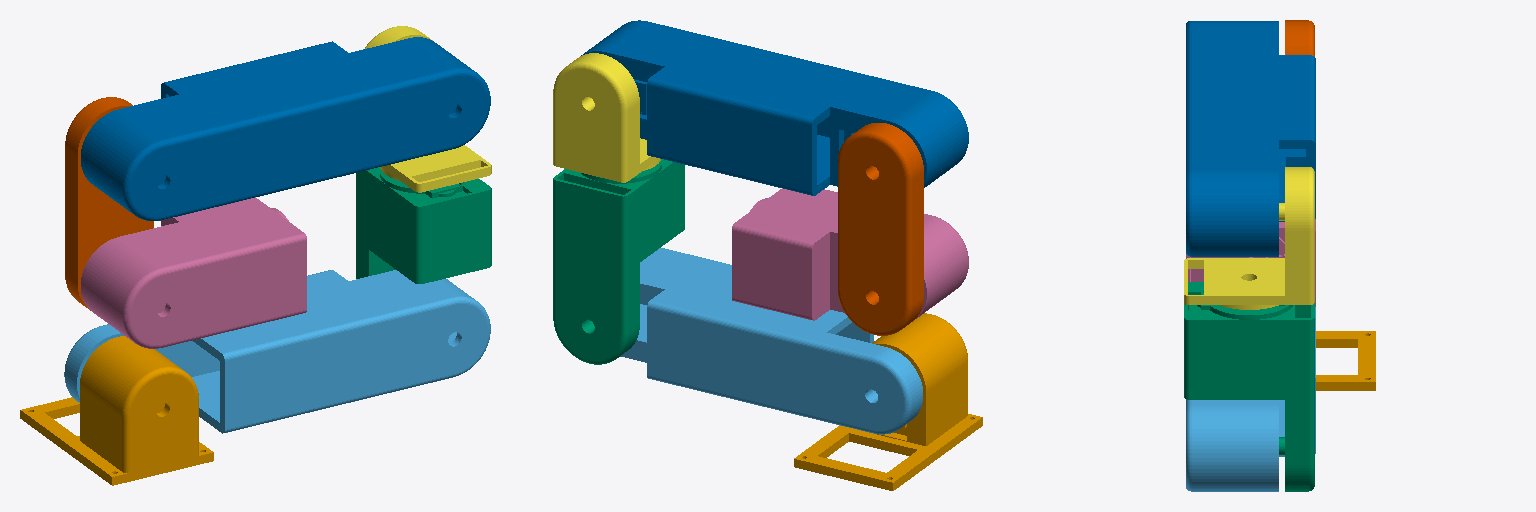
URDF robot description (arm3):
<?xml version='1.0' encoding='utf-8'?>
<robot name="arm3">
    <link name="base_link">
        <inertial>
            <origin xyz="-1.188415750328633e-09 -0.020862080792945627 0.02351089822104169" rpy="0.0 0.0 0.0" />
            <mass value="0.8649605268138625" />
            <inertia ixx="0.0005091080176490385" iyy="0.00040051606955903633" izz="0.000456781148628419" ixy="2.017447833990726e-11" iyz="6.001050632423394e-05" ixz="1.2800998119586669e-11" />
        </inertial>
        <visual name="base_link_visual">
            <origin xyz="0.0 0.0 0.0" rpy="0.0 0.0 0.0" />
            <geometry>
                <mesh filename="package://arm3_description/meshes/base_link.stl" scale="0.001 0.001 0.001" />
            </geometry>
        </visual>
        <collision name="base_link_collision">
            <origin xyz="0.0 0.0 0.0" rpy="0.0 0.0 0.0" />
            <geometry>
                <mesh filename="package://arm3_description/meshes/base_link.stl" scale="0.001 0.001 0.001" />
            </geometry>
        </collision>
    </link>
    <link name="arm_1">
        <inertial>
            <origin xyz="0.10650064034424997 -5.514573064857586e-10 -0.014859090607788348" rpy="0.0 -0.0 0.0" />
            <mass value="1.8640074270642077" />
            <inertia ixx="0.0012293916356250095" iyy="0.007030587931090102" izz="0.006618762705733333" ixy="9.733320139454493e-11" iyz="1.4003596025824482e-11" ixz="0.0010796405966336652" />
        </inertial>
        <visual name="arm_1_visual">
            <origin xyz="0.072 -0.045 0.0030000021411000083" rpy="1.5707963267948963 4.5261550790144846e-79 -2.2315667455012782e-110" />
            <geometry>
                <mesh filename="package://arm3_description/meshes/arm_1.stl" scale="0.001 0.001 0.001" />
            </geometry>
        </visual>
        <collision name="arm_1_collision">
            <origin xyz="0.072 -0.045 0.0030000021411000083" rpy="1.5707963267948963 4.5261550790144846e-79 -2.2315667455012782e-110" />
            <geometry>
                <mesh filename="package://arm3_description/meshes/arm_1.stl" scale="0.001 0.001 0.001" />
            </geometry>
        </collision>
    </link>
    <link name="arm_2">
        <inertial>
            <origin xyz="9.298725345274761e-10 -0.046322761859584 -0.01124850249317479" rpy="0.0 -0.0 0.0" />
            <mass value="1.1054515445122186" />
            <inertia ixx="0.0011269854729143332" iyy="0.0006146812341975352" izz="0.0009027924480591032" ixy="6.493354465231249e-12" iyz="-0.00029226251125904893" ixz="3.3793059496523004e-12" />
        </inertial>
        <visual name="arm_2_visual">
            <origin xyz="0.013500000000000014 -0.05849999999999998 0.003000004282200013" rpy="1.5707963267948963 -0.0 2.698802673467014e-79" />
            <geometry>
                <mesh filename="package://arm3_description/meshes/arm_2.stl" scale="0.001 0.001 0.001" />
            </geometry>
        </visual>
        <collision name="arm_2_collision">
            <origin xyz="0.013500000000000014 -0.05849999999999998 0.003000004282200013" rpy="1.5707963267948963 -0.0 2.698802673467014e-79" />
            <geometry>
                <mesh filename="package://arm3_description/meshes/arm_2.stl" scale="0.001 0.001 0.001" />
            </geometry>
        </collision>
    </link>
    <link name="arm_3">
        <inertial>
            <origin xyz="-3.801403636316536e-15 0.01766179279414297 0.028362432726066623" rpy="0.0 -0.0 0.0" />
            <mass value="0.3866919911236247" />
            <inertia ixx="0.00022345752781510568" iyy="0.00020435292015233072" izz="0.00014285677267166473" ixy="3.0040753277961116e-11" iyz="-6.055343015939629e-05" ixz="3.004076674917311e-11" />
        </inertial>
        <visual name="arm_3_visual">
            <origin xyz="7.105427357601002e-17 4.282200001259895e-09 0.0030000021410999623" rpy="-1.9890203340171088e-16 -0.0 5.618011625630638e-95" />
            <geometry>
                <mesh filename="package://arm3_description/meshes/arm_3.stl" scale="0.001 0.001 0.001" />
            </geometry>
        </visual>
        <collision name="arm_3_collision">
            <origin xyz="7.105427357601002e-17 4.282200001259895e-09 0.0030000021410999623" rpy="-1.9890203340171088e-16 -0.0 5.618011625630638e-95" />
            <geometry>
                <mesh filename="package://arm3_description/meshes/arm_3.stl" scale="0.001 0.001 0.001" />
            </geometry>
        </collision>
    </link>
    <link name="arm_4">
        <inertial>
            <origin xyz="-0.08599999999999698 2.1645027814543027e-09 0.02008578479393376" rpy="0.0 -0.0 0.0" />
            <mass value="2.371653909040455" />
            <inertia ixx="0.0012533831266328815" iyy="0.01074299476657482" izz="0.010481174641859214" ixy="-1.767307966638043e-10" iyz="-3.4019488615030274e-13" ixz="1.4635075977272978e-16" />
        </inertial>
        <visual name="arm_4_visual">
            <origin xyz="-0.09999999999999994 0.04500000214109992 -4.282200002092563e-09" rpy="-1.5707963267948966 -0.0 0.0" />
            <geometry>
                <mesh filename="package://arm3_description/meshes/arm_4.stl" scale="0.001 0.001 0.001" />
            </geometry>
        </visual>
        <collision name="arm_4_collision">
            <origin xyz="-0.09999999999999994 0.04500000214109992 -4.282200002092563e-09" rpy="-1.5707963267948966 -0.0 0.0" />
            <geometry>
                <mesh filename="package://arm3_description/meshes/arm_4.stl" scale="0.001 0.001 0.001" />
            </geometry>
        </collision>
    </link>
    <link name="arm_5">
        <inertial>
            <origin xyz="2.7011624616588083e-17 0.03604999785890012 0.01051589269916724" rpy="0.0 -0.0 0.0" />
            <mass value="0.5465524334585093" />
            <inertia ixx="0.0005395879319698271" iyy="9.64355550217386e-05" izz="0.0006159254529286146" ixy="-6.008158682764333e-11" iyz="2.0991072260237423e-19" ixz="-8.552667084117707e-22" />
        </inertial>
        <visual name="arm_5_visual">
            <origin xyz="0.024999999950109417 0.012999997809009437 0.003000004282200003" rpy="1.5707963267948966 9.363352709384395e-97 -4.2168791772922093e-81" />
            <geometry>
                <mesh filename="package://arm3_description/meshes/arm_5.stl" scale="0.001 0.001 0.001" />
            </geometry>
        </visual>
        <collision name="arm_5_collision">
            <origin xyz="0.024999999950109417 0.012999997809009437 0.003000004282200003" rpy="1.5707963267948966 9.363352709384395e-97 -4.2168791772922093e-81" />
            <geometry>
                <mesh filename="package://arm3_description/meshes/arm_5.stl" scale="0.001 0.001 0.001" />
            </geometry>
        </collision>
    </link>
    <link name="arm_6">
        <inertial>
            <origin xyz="0.03770065749058546 9.494893227213196e-10 0.01998358486384085" rpy="0.0 -0.0 0.0" />
            <mass value="1.7253109869141712" />
            <inertia ixx="0.0007363358667145381" iyy="0.001899600097244089" izz="0.001765437785906484" ixy="1.1718103917757183e-11" iyz="-2.6388872857718845e-11" ixz="0.0001241716581803469" />
        </inertial>
        <visual name="arm_6_visual">
            <origin xyz="0.06350000000000003 0.06876191428219997 0.013761907858900017" rpy="-1.5707963267948968 -0.0 0.0" />
            <geometry>
                <mesh filename="package://arm3_description/meshes/arm_6.stl" scale="0.001 0.001 0.001" />
            </geometry>
        </visual>
        <collision name="arm_6_collision">
            <origin xyz="0.06350000000000003 0.06876191428219997 0.013761907858900017" rpy="-1.5707963267948968 -0.0 0.0" />
            <geometry>
                <mesh filename="package://arm3_description/meshes/arm_6.stl" scale="0.001 0.001 0.001" />
            </geometry>
        </collision>
    </link>
    <joint name="servo_1" type="revolute">
        <origin xyz="0.0 -0.0007380900000000001 0.036000000000000004" rpy="-1.5707963267948966 -0.0 0.0" />
        <parent link="base_link" />
        <child link="arm_1" />
        <axis xyz="0.0 4.9303806576313216e-32 1.0" />
        <limit lower="-3.141593" upper="0.0" effort="100" velocity="5.0" />
    </joint>
    <joint name="servo_2" type="revolute">
        <origin xyz="0.172 0.0 -0.0007380900000000001" rpy="-4.9303806576313216e-32 -0.0 0.0" />
        <parent link="arm_1" />
        <child link="arm_2" />
        <axis xyz="0.0 0.0 1.0" />
        <limit lower="0.0" upper="3.141593" effort="100" velocity="5.0" />
    </joint>
    <joint name="servo_3" type="revolute">
        <origin xyz="0.0 -0.08236191 -0.014499999999999999" rpy="1.5707963267948966 -0.0 0.0" />
        <parent link="arm_2" />
        <child link="arm_3" />
        <axis xyz="0.0 0.0 1.0" />
        <limit lower="-1.570796" upper="1.570796" effort="100" velocity="5.0" />
    </joint>
    <joint name="servo_4" type="revolute">
        <origin xyz="0.0 0.014499999999999999 0.04650000000000002" rpy="1.5707963267948966 -0.0 0.0" />
        <parent link="arm_3" />
        <child link="arm_4" />
        <axis xyz="0.0 -1.5407439555097887e-33 1.0" />
        <limit lower="-3.141593" upper="0.0" effort="100" velocity="5.0" />
    </joint>
    <joint name="servo_5" type="revolute">
        <origin xyz="-0.172 0.0 0.0" rpy="3.141592653589793 -0.0 0.0" />
        <parent link="arm_4" />
        <child link="arm_5" />
        <axis xyz="0.0 -2.2204460492503126e-16 1.0" />
        <limit lower="0.0" upper="3.141593" effort="100" velocity="5.0" />
    </joint>
    <joint name="servo_6" type="revolute">
        <origin xyz="0.0 0.07210000000000001 1.609823385706477e-17" rpy="-3.141592653589793 -0.0 0.0" />
        <parent link="arm_5" />
        <child link="arm_6" />
        <axis xyz="0.0 1.5407439555097887e-33 1.0" />
        <limit lower="-3.141593" upper="0.0" effort="100" velocity="5.0" />
    </joint>
</robot>

--- Facts derived from the render (not from the file) ---
3 views of the same robot in one strip: view 1: azimuth 30°, elevation 25°; view 2: azimuth 150°, elevation 25°; view 3: azimuth 270°, elevation 25° (orthographic).
Model arm3 with 7 links and 6 joints (6 revolute), rooted at base_link, posed every joint at zero.
Links seen in each view (by area): view 1: arm_4, arm_1, arm_6, base_link, arm_2, arm_5, arm_3; view 2: arm_4, arm_1, arm_2, arm_5, arm_6, base_link, arm_3; view 3: arm_4, arm_2, arm_1, arm_3, base_link, arm_5, arm_6.
Boxes of the visible links, x1,y1,x2,y2 form: arm_4: (81, 37, 490, 220); arm_1: (64, 270, 490, 433); arm_6: (81, 197, 306, 348); base_link: (20, 336, 213, 485); arm_2: (356, 167, 491, 283); arm_5: (65, 97, 153, 310); arm_3: (365, 26, 491, 192); arm_4: (581, 20, 968, 195); arm_1: (620, 248, 922, 434); arm_2: (553, 159, 684, 364); arm_5: (838, 123, 923, 335); arm_6: (732, 188, 968, 320); base_link: (794, 313, 982, 490); arm_3: (553, 53, 660, 182); arm_4: (1186, 21, 1315, 256); arm_2: (1184, 282, 1314, 491); arm_1: (1186, 307, 1315, 491); arm_3: (1184, 167, 1314, 309); base_link: (1316, 331, 1375, 390); arm_5: (1285, 20, 1314, 56); arm_6: (1186, 219, 1315, 306).
Bounding box of the posed robot: 0.2245 × 0.0955 × 0.1874 m (x, y, z).
7 mesh visuals loaded from 7 distinct referenced files (7 binary STL).